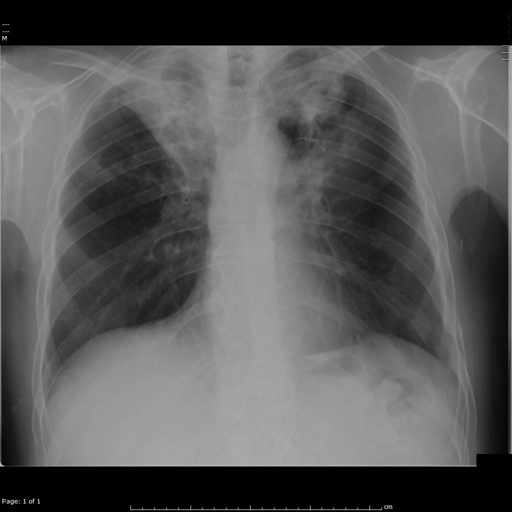TB: (117, 56, 211, 195), (281, 59, 355, 211)
